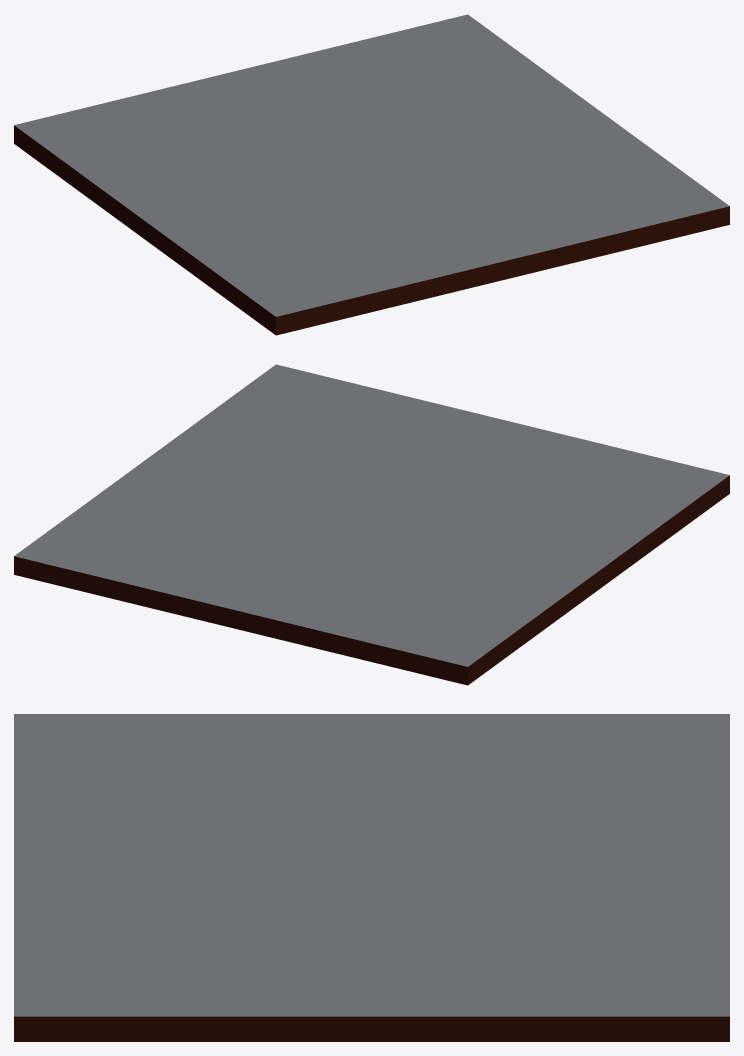
File: HellTCG_HealthCard.fbx
3 renders of one model, top to bottom at view 1: azimuth 30°, elevation 25°; view 2: azimuth 150°, elevation 25°; view 3: azimuth 270°, elevation 25°, orthographic. The views are drawn at different scales.
Parts seen in each view (by area): view 1: pCube10; view 2: pCube10; view 3: pCube10.
Part boxes in pixels (left/top/right/bottom): pCube10: left=14, top=14, right=729, bottom=335; pCube10: left=14, top=364, right=729, bottom=685; pCube10: left=14, top=714, right=729, bottom=1041.
Bounding box in the file's own units: 2.25 × 0.1757 × 2.25.
